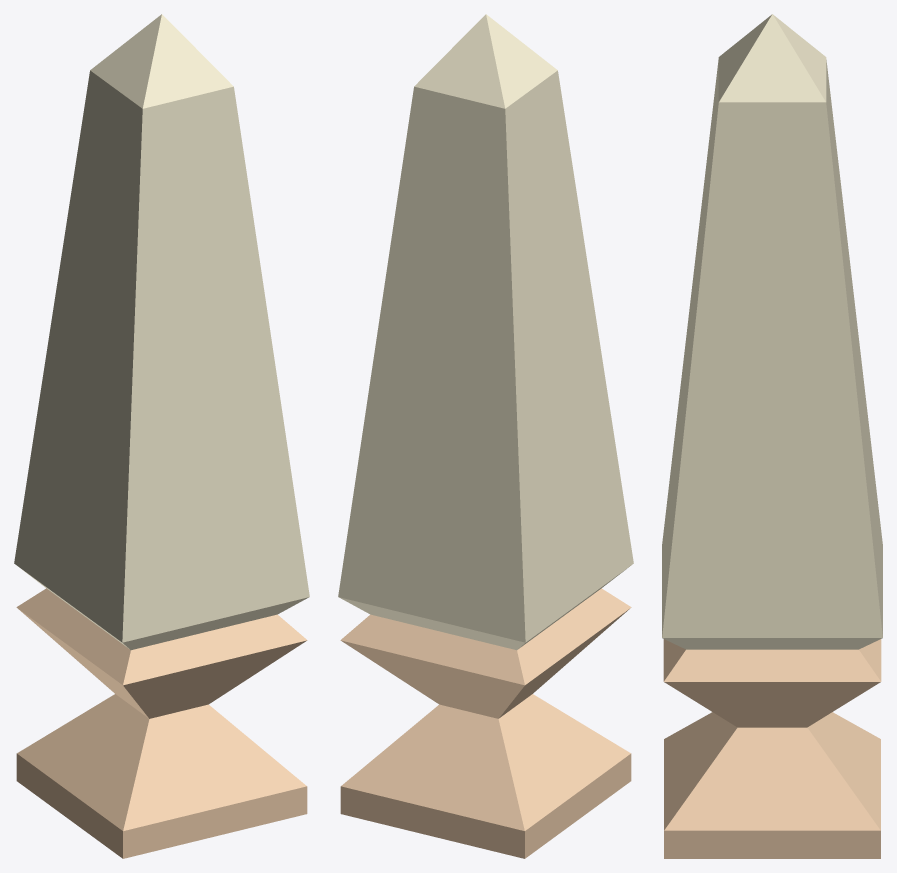
Rendered from obelisk.fbx.
3 views of the same model, side by side, from view 1: azimuth 30°, elevation 25°; view 2: azimuth 150°, elevation 25°; view 3: azimuth 270°, elevation 25° (orthographic).
Parts seen in each view (by area): view 1: obelisk; view 2: obelisk; view 3: obelisk.
Part boxes in pixels (box(x1,y1,x2,y2)): obelisk: box(14, 14, 309, 858); obelisk: box(338, 14, 633, 858); obelisk: box(662, 14, 882, 858).
Bounding box in the file's own units: 83.73 × 334 × 83.73.
